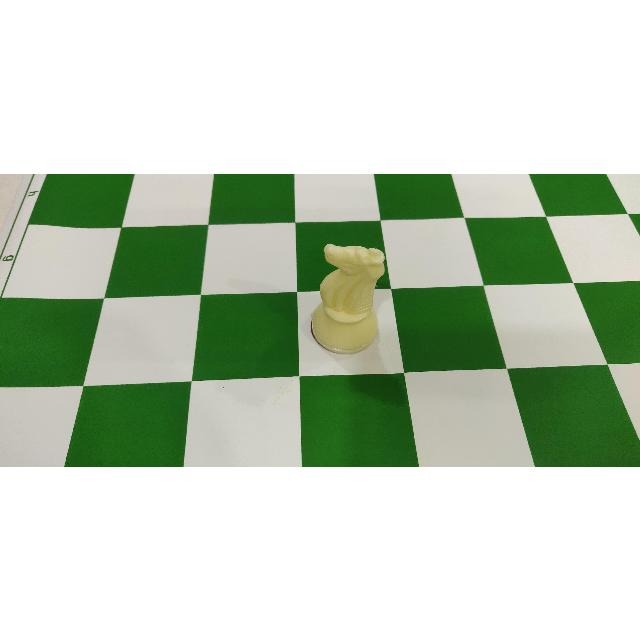white-knight: (310, 242, 385, 354)
